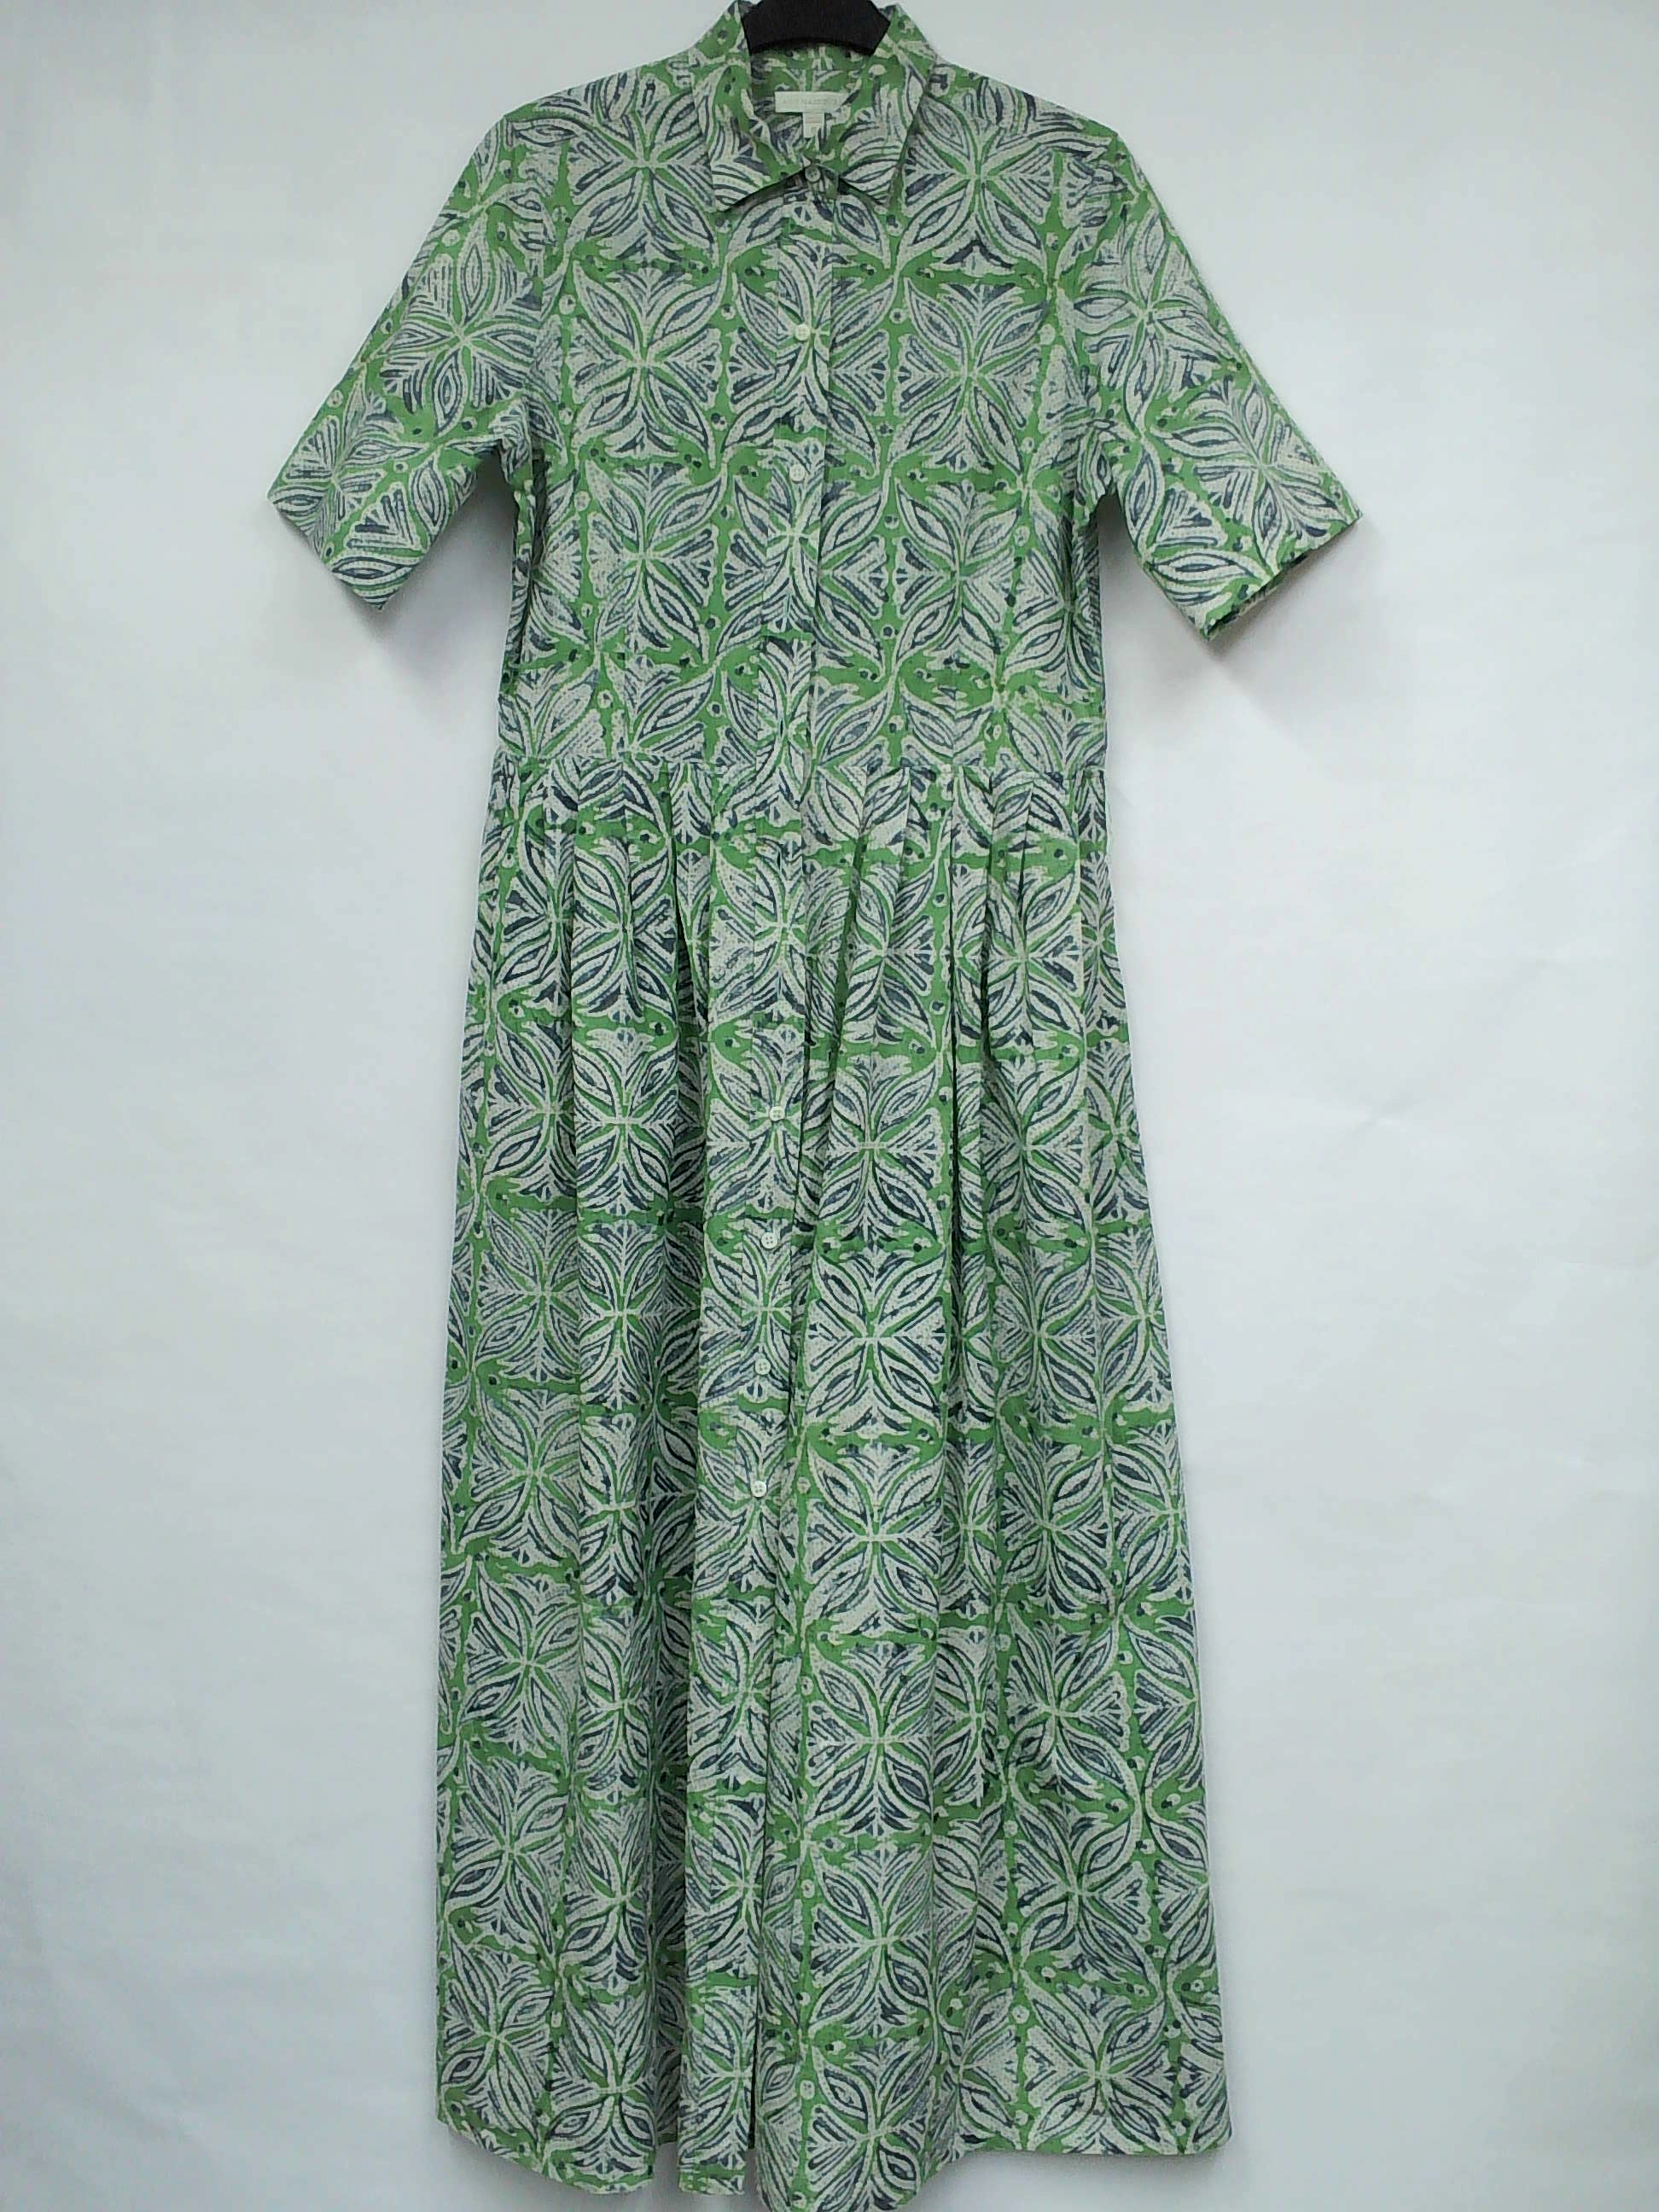seam: (681, 21, 950, 87)
